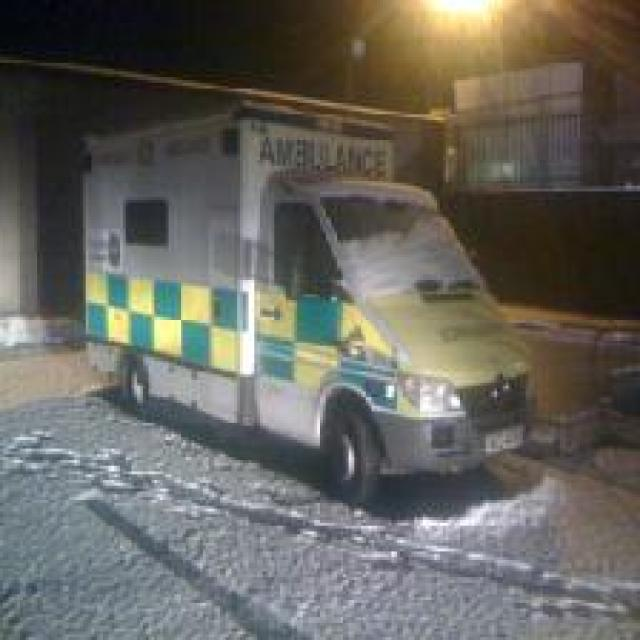Ambulance: (77, 100, 534, 506)
